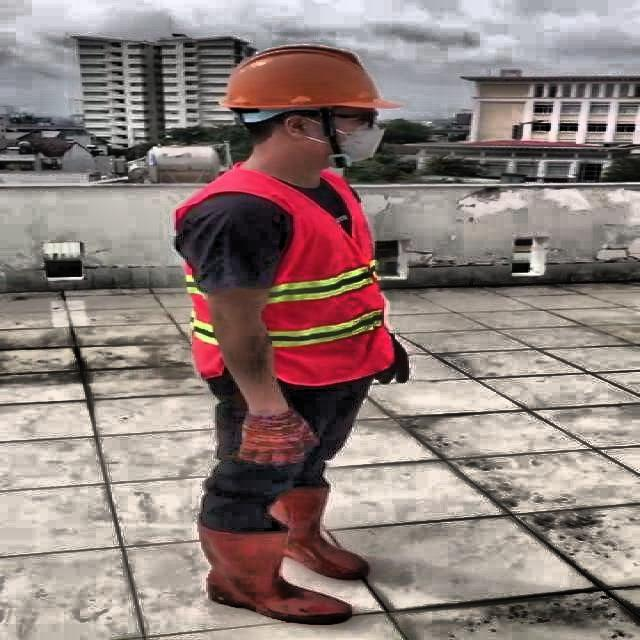safety_jacket: (183, 174, 394, 382)
